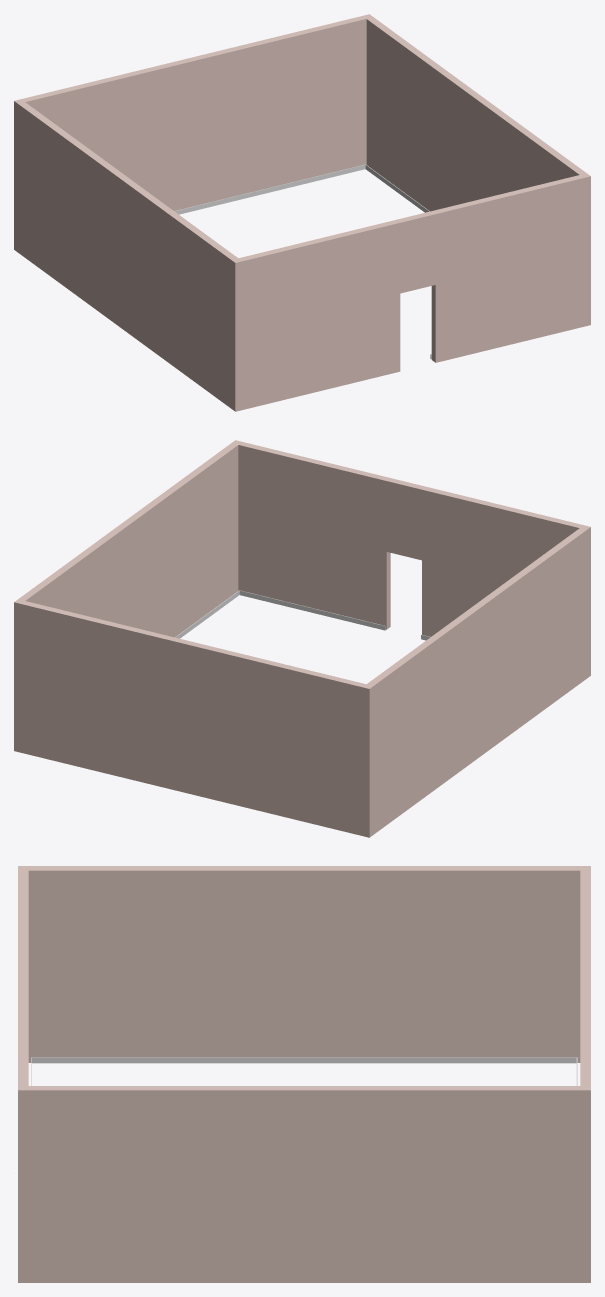
The model's file is bookStore.fbx.
3 views of the same model, one above another, from view 1: azimuth 30°, elevation 25°; view 2: azimuth 150°, elevation 25°; view 3: azimuth 270°, elevation 25° (orthographic). The views are drawn at different scales.
Visible parts, largest first — view 1: Room.001, Baseboard; view 2: Room.001, Baseboard; view 3: Room.001, Baseboard.
Part boxes in pixels (bbox=[...]): Room.001: bbox=[14, 14, 590, 411]; Baseboard: bbox=[174, 164, 431, 358]; Room.001: bbox=[14, 440, 590, 837]; Baseboard: bbox=[175, 590, 430, 640]; Room.001: bbox=[18, 866, 590, 1282]; Baseboard: bbox=[31, 1057, 577, 1085].
Bounding box in the file's own units: 1000 × 404 × 1087.
